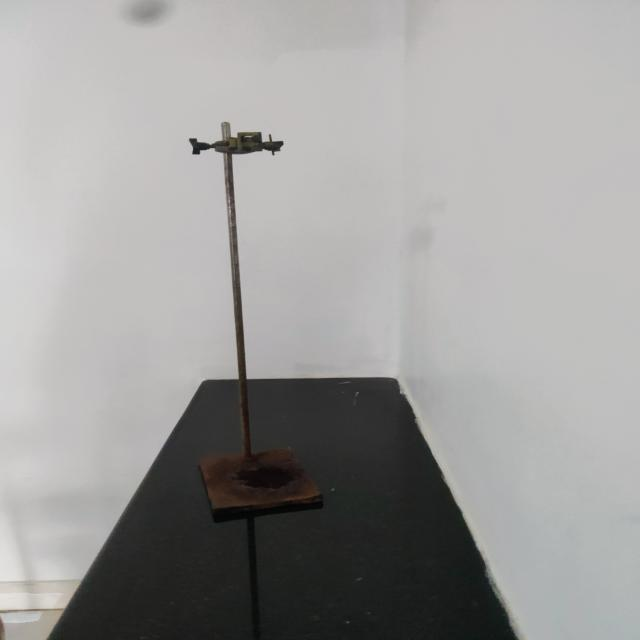Burette_Stands: (146, 93, 362, 567)
